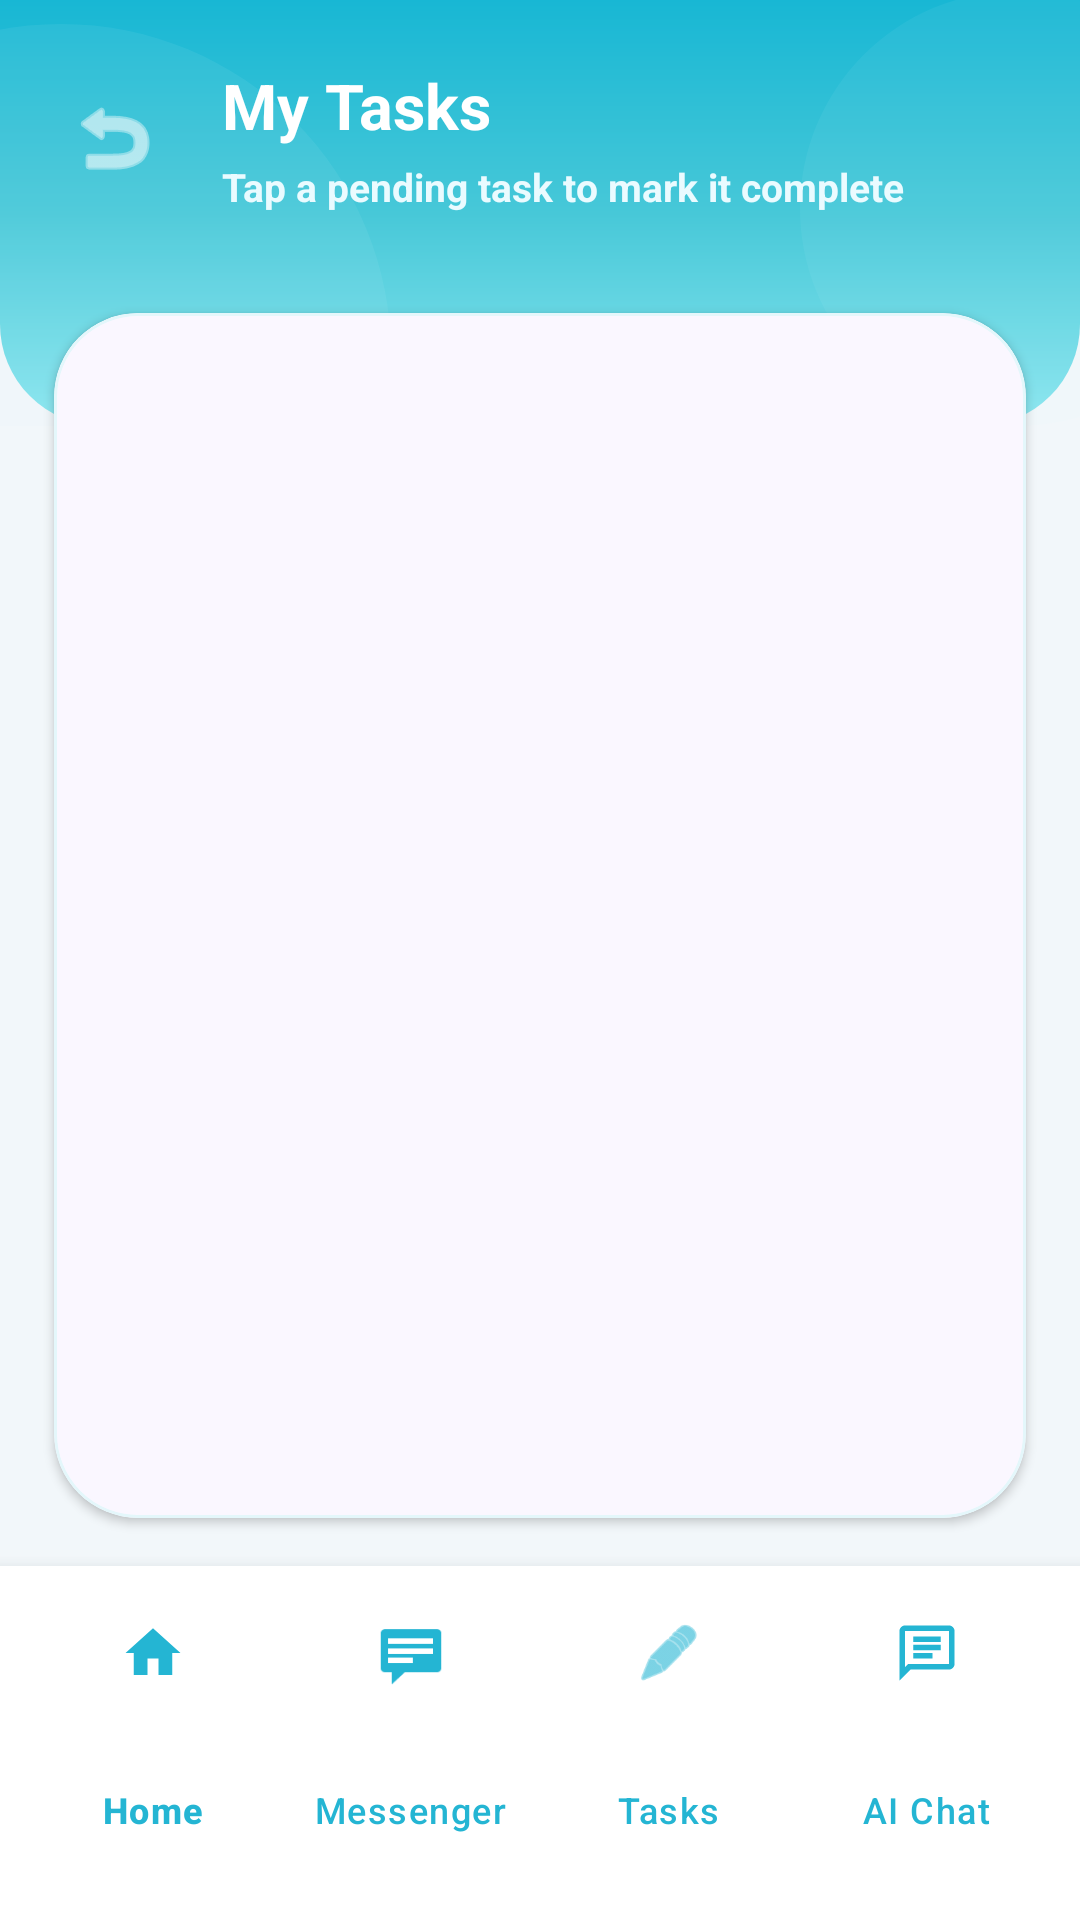

Icon click points for this 1080 x 1920 phone screenshot, format (x,y):
revert: (115,138)
